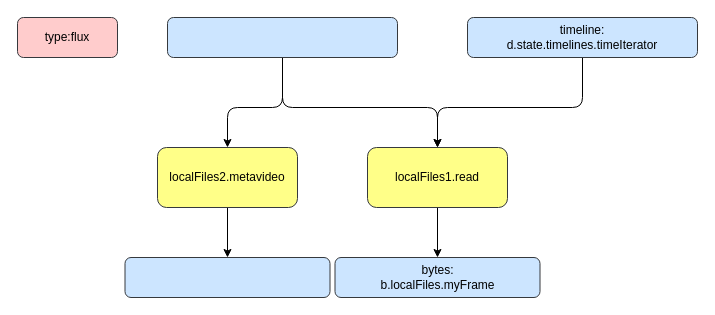
The diagram is 715 pixels wide and 315 high, and some of its shapes have lost their labels. The centre of each missing label's shape, as x and y in pixels:
"metadata: d.minio.videoMeta" goes at point (227, 277).
"source: d.state.sources.myvideo.image" goes at point (282, 37).
